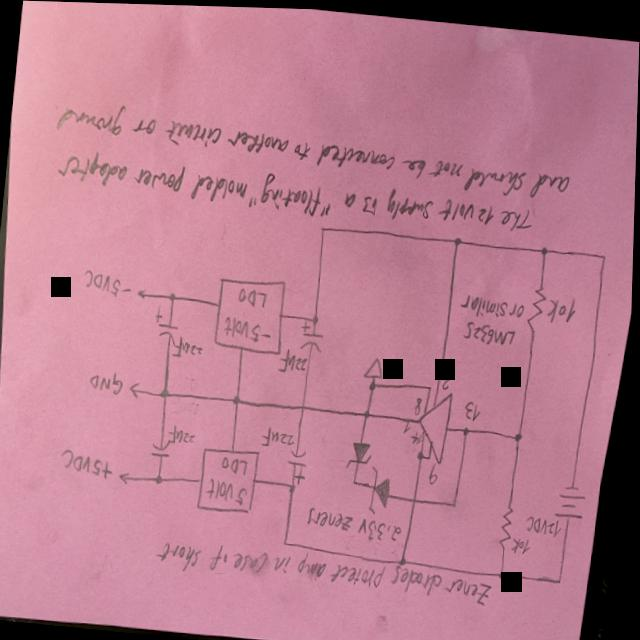capacitor: (153, 301, 183, 344), (299, 315, 326, 351), (286, 445, 310, 482), (150, 435, 174, 459)
crossover: (412, 493, 420, 502), (301, 401, 308, 409)
diode: (369, 460, 397, 514), (345, 430, 375, 469)
ground: (363, 353, 386, 377)
junction: (160, 384, 172, 399), (155, 471, 167, 484), (168, 288, 179, 301), (514, 427, 525, 440), (539, 240, 550, 253), (233, 391, 243, 404), (499, 564, 509, 576), (401, 552, 411, 564), (312, 310, 321, 323), (318, 221, 328, 232), (453, 231, 462, 243), (418, 446, 427, 458), (462, 421, 471, 432), (364, 406, 373, 417), (283, 535, 292, 546), (600, 247, 609, 258), (369, 378, 378, 389), (557, 572, 565, 582), (352, 474, 360, 483), (290, 481, 298, 490), (452, 497, 460, 505), (428, 380, 435, 388), (428, 450, 433, 457)
resistor: (526, 277, 549, 332), (500, 499, 517, 546)
source: (555, 478, 590, 519)
terminal: (129, 378, 142, 398), (118, 468, 134, 483), (136, 285, 148, 299)
text: (48, 93, 575, 202), (54, 146, 538, 240), (153, 537, 498, 605), (460, 288, 529, 319), (59, 445, 117, 479), (462, 314, 519, 345), (82, 266, 134, 298), (223, 311, 274, 342), (307, 502, 358, 530), (206, 474, 251, 504), (358, 514, 405, 542), (545, 290, 580, 322), (525, 509, 566, 535), (89, 367, 127, 394), (171, 333, 206, 359), (262, 423, 298, 446), (167, 421, 199, 444), (280, 348, 309, 372), (238, 284, 269, 306), (222, 453, 250, 474), (513, 532, 534, 553), (465, 396, 483, 419), (411, 425, 425, 444), (414, 392, 425, 414), (430, 462, 441, 483), (442, 371, 453, 388), (404, 417, 415, 434)
